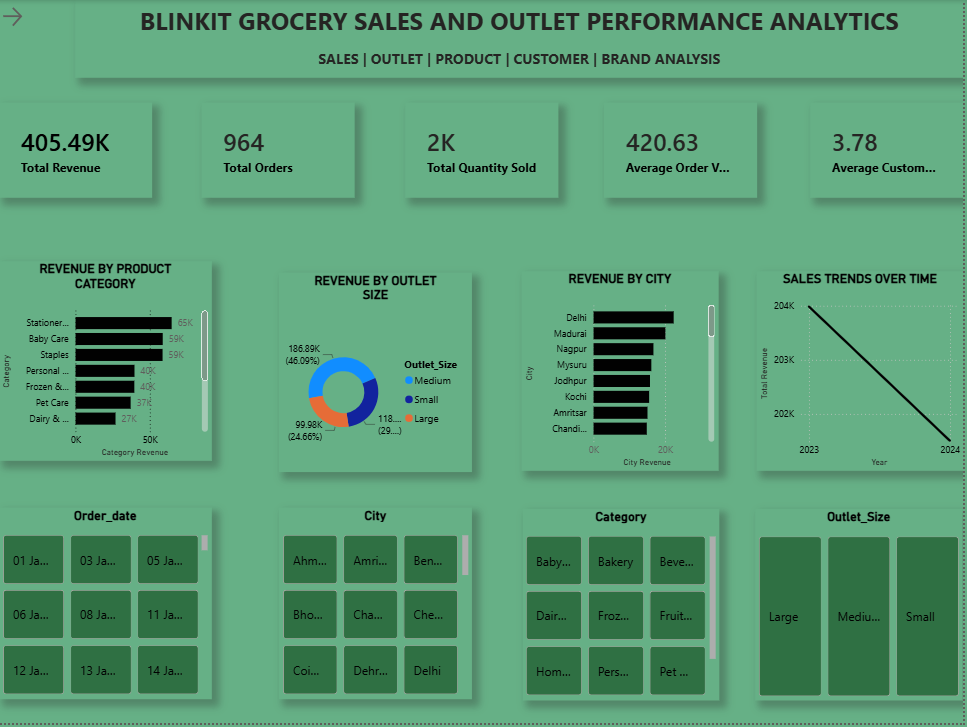

The dashboard page shown, as its layout file describes it:
{"tool":"powerbi","page":{"name":"Executive Overview","canvas":[1280,960],"ordinal":0},"visuals":[{"type":"textbox","box":[101.8,0,1178.5,103.4],"z":0},{"type":"cardVisual","fields":{"Data":["Measure.Total Revenue"]},"box":[0,135.8,203.1,126.2],"z":1000},{"type":"cardVisual","fields":{"Data":["Measure.Total Orders"]},"box":[269,135.8,203.1,126.2],"z":2000},{"type":"cardVisual","fields":{"Data":["Measure.Total Quantity Sold"]},"box":[539.3,135.8,203.1,126.2],"z":3000},{"type":"cardVisual","fields":{"Data":["Measure.Average Order Value"]},"box":[802.7,135.8,203.1,126.2],"z":4000},{"type":"cardVisual","fields":{"Data":["Measure.Average Customer Rating"]},"box":[1076.4,136.5,203.1,126.2],"z":5000},{"type":"clusteredBarChart","title":"REVENUE BY PRODUCT CATEGORY","fields":{"Category":["blinkit_db items.Category"],"Y":["Measure.Category Revenue"]},"box":[0,346.7,282.4,265],"z":6000},{"type":"donutChart","title":"REVENUE BY OUTLET SIZE","fields":{"Category":["blinkit_db outlets.Outlet_Size"],"Y":["Measure.Outlet Size Revenue"]},"box":[370.7,360.7,256.3,265],"z":7000},{"type":"barChart","title":"REVENUE BY CITY","fields":{"Category":["blinkit_db outlets.City"],"Y":["Measure.City Revenue"]},"box":[692.9,359.5,261.2,265],"z":8000},{"type":"lineChart","title":"SALES TRENDS OVER TIME","fields":{"Category":["blinkit_db sales.Order_date.Variation.Date Hierarchy.Year","blinkit_db sales.Order_date.Variation.Date Hierarchy.Quarter","blinkit_db sales.Order_date.Variation.Date Hierarchy.Month","blinkit_db sales.Order_date.Variation.Date Hierarchy.Day"],"Y":["Measure.Total Revenue"]},"box":[1005.1,359.5,274.9,265],"z":9000},{"type":"advancedSlicerVisual","fields":{"Values":["blinkit_db sales.Order_date"]},"box":[0,672.9,282.3,254.4],"z":10000},{"type":"advancedSlicerVisual","fields":{"Values":["blinkit_db outlets.City"]},"box":[370.9,672.9,256,254],"z":11000},{"type":"advancedSlicerVisual","fields":{"Values":["blinkit_db items.Category"]},"box":[694.3,674.6,261,254],"z":12000},{"type":"advancedSlicerVisual","fields":{"Values":["blinkit_db outlets.Outlet_Size"]},"box":[1002.9,674.6,275,254],"z":13000},{"type":"actionButton","box":[0,0,100,40],"z":14000}]}

Visuals, with their boxes in screenshot pixels (x1, y1, x2, y2), scaled from the page's 1280x960 canvas onto the 967x727 screenshot:
textbox: rect(77, 0, 966, 78)
cardVisual - Measure.Total Revenue: rect(0, 103, 153, 198)
cardVisual - Measure.Total Orders: rect(203, 103, 357, 198)
cardVisual - Measure.Total Quantity Sold: rect(407, 103, 561, 198)
cardVisual - Measure.Average Order Value: rect(606, 103, 760, 198)
cardVisual - Measure.Average Customer Rating: rect(813, 103, 966, 199)
"REVENUE BY PRODUCT CATEGORY" clusteredBarChart: rect(0, 263, 213, 463)
"REVENUE BY OUTLET SIZE" donutChart: rect(280, 273, 474, 474)
"REVENUE BY CITY" barChart: rect(523, 272, 721, 473)
"SALES TRENDS OVER TIME" lineChart: rect(759, 272, 966, 473)
advancedSlicerVisual - blinkit_db sales.Order_date: rect(0, 510, 213, 702)
advancedSlicerVisual - blinkit_db outlets.City: rect(280, 510, 474, 702)
advancedSlicerVisual - blinkit_db items.Category: rect(525, 511, 722, 703)
advancedSlicerVisual - blinkit_db outlets.Outlet_Size: rect(758, 511, 965, 703)
actionButton: rect(0, 0, 76, 30)
